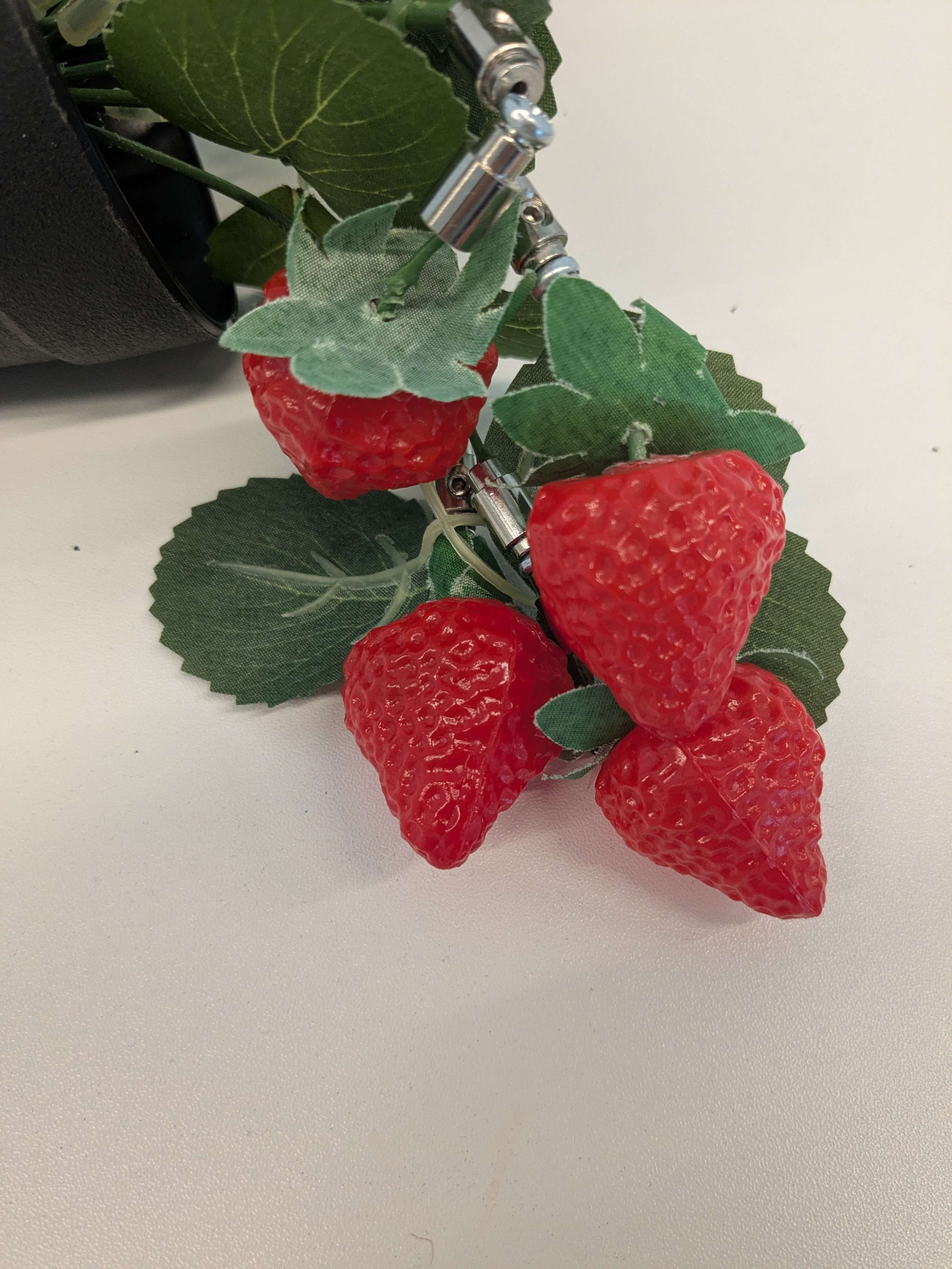Strawberry: (530, 437, 781, 755), (580, 666, 846, 949), (242, 228, 510, 494), (346, 594, 567, 887)
